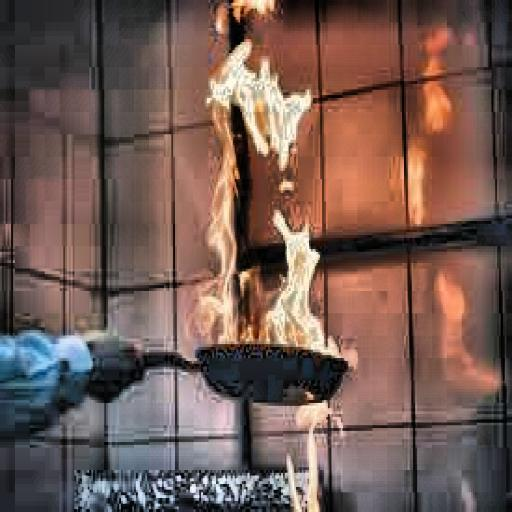fire: (190, 42, 365, 366)
